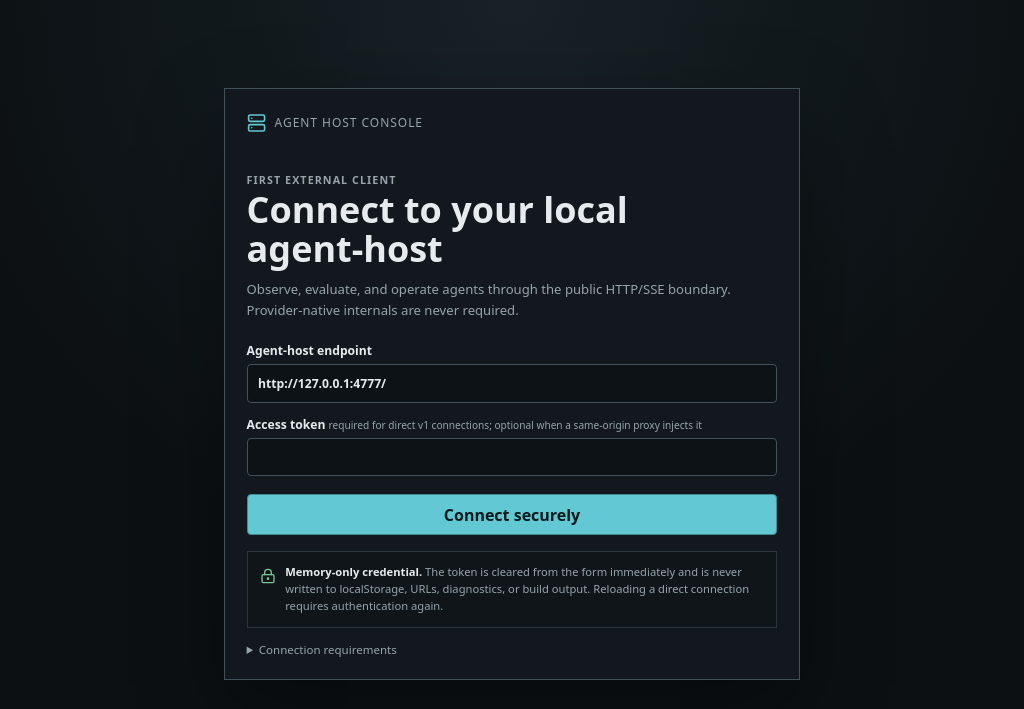
Test: daily-driver shell › allows a same-origin proxy connection without a form credential
Click the button "Connect securely" at (512, 515), box [247,494,777,536]
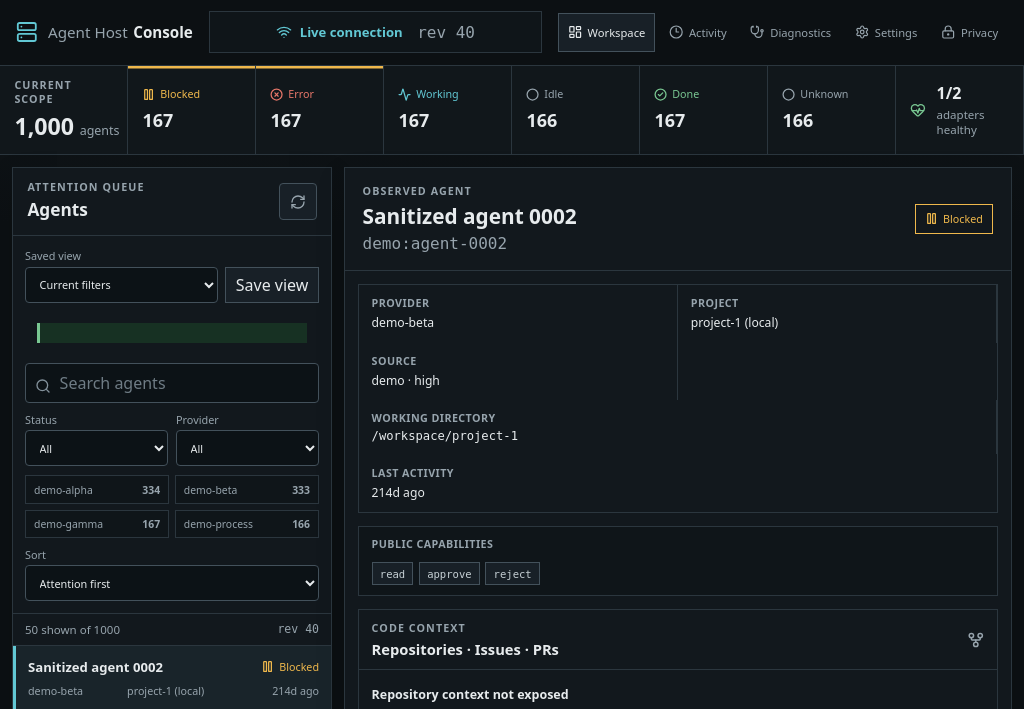
Check: the text "50 shown of 1000" is shown, box [25,622,120,637]
